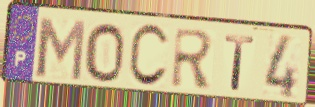4: (262, 33, 300, 101)
C: (126, 22, 171, 90)
M: (34, 14, 88, 83)
O: (84, 21, 126, 85)
R: (169, 26, 215, 91)
T: (223, 33, 257, 93)
